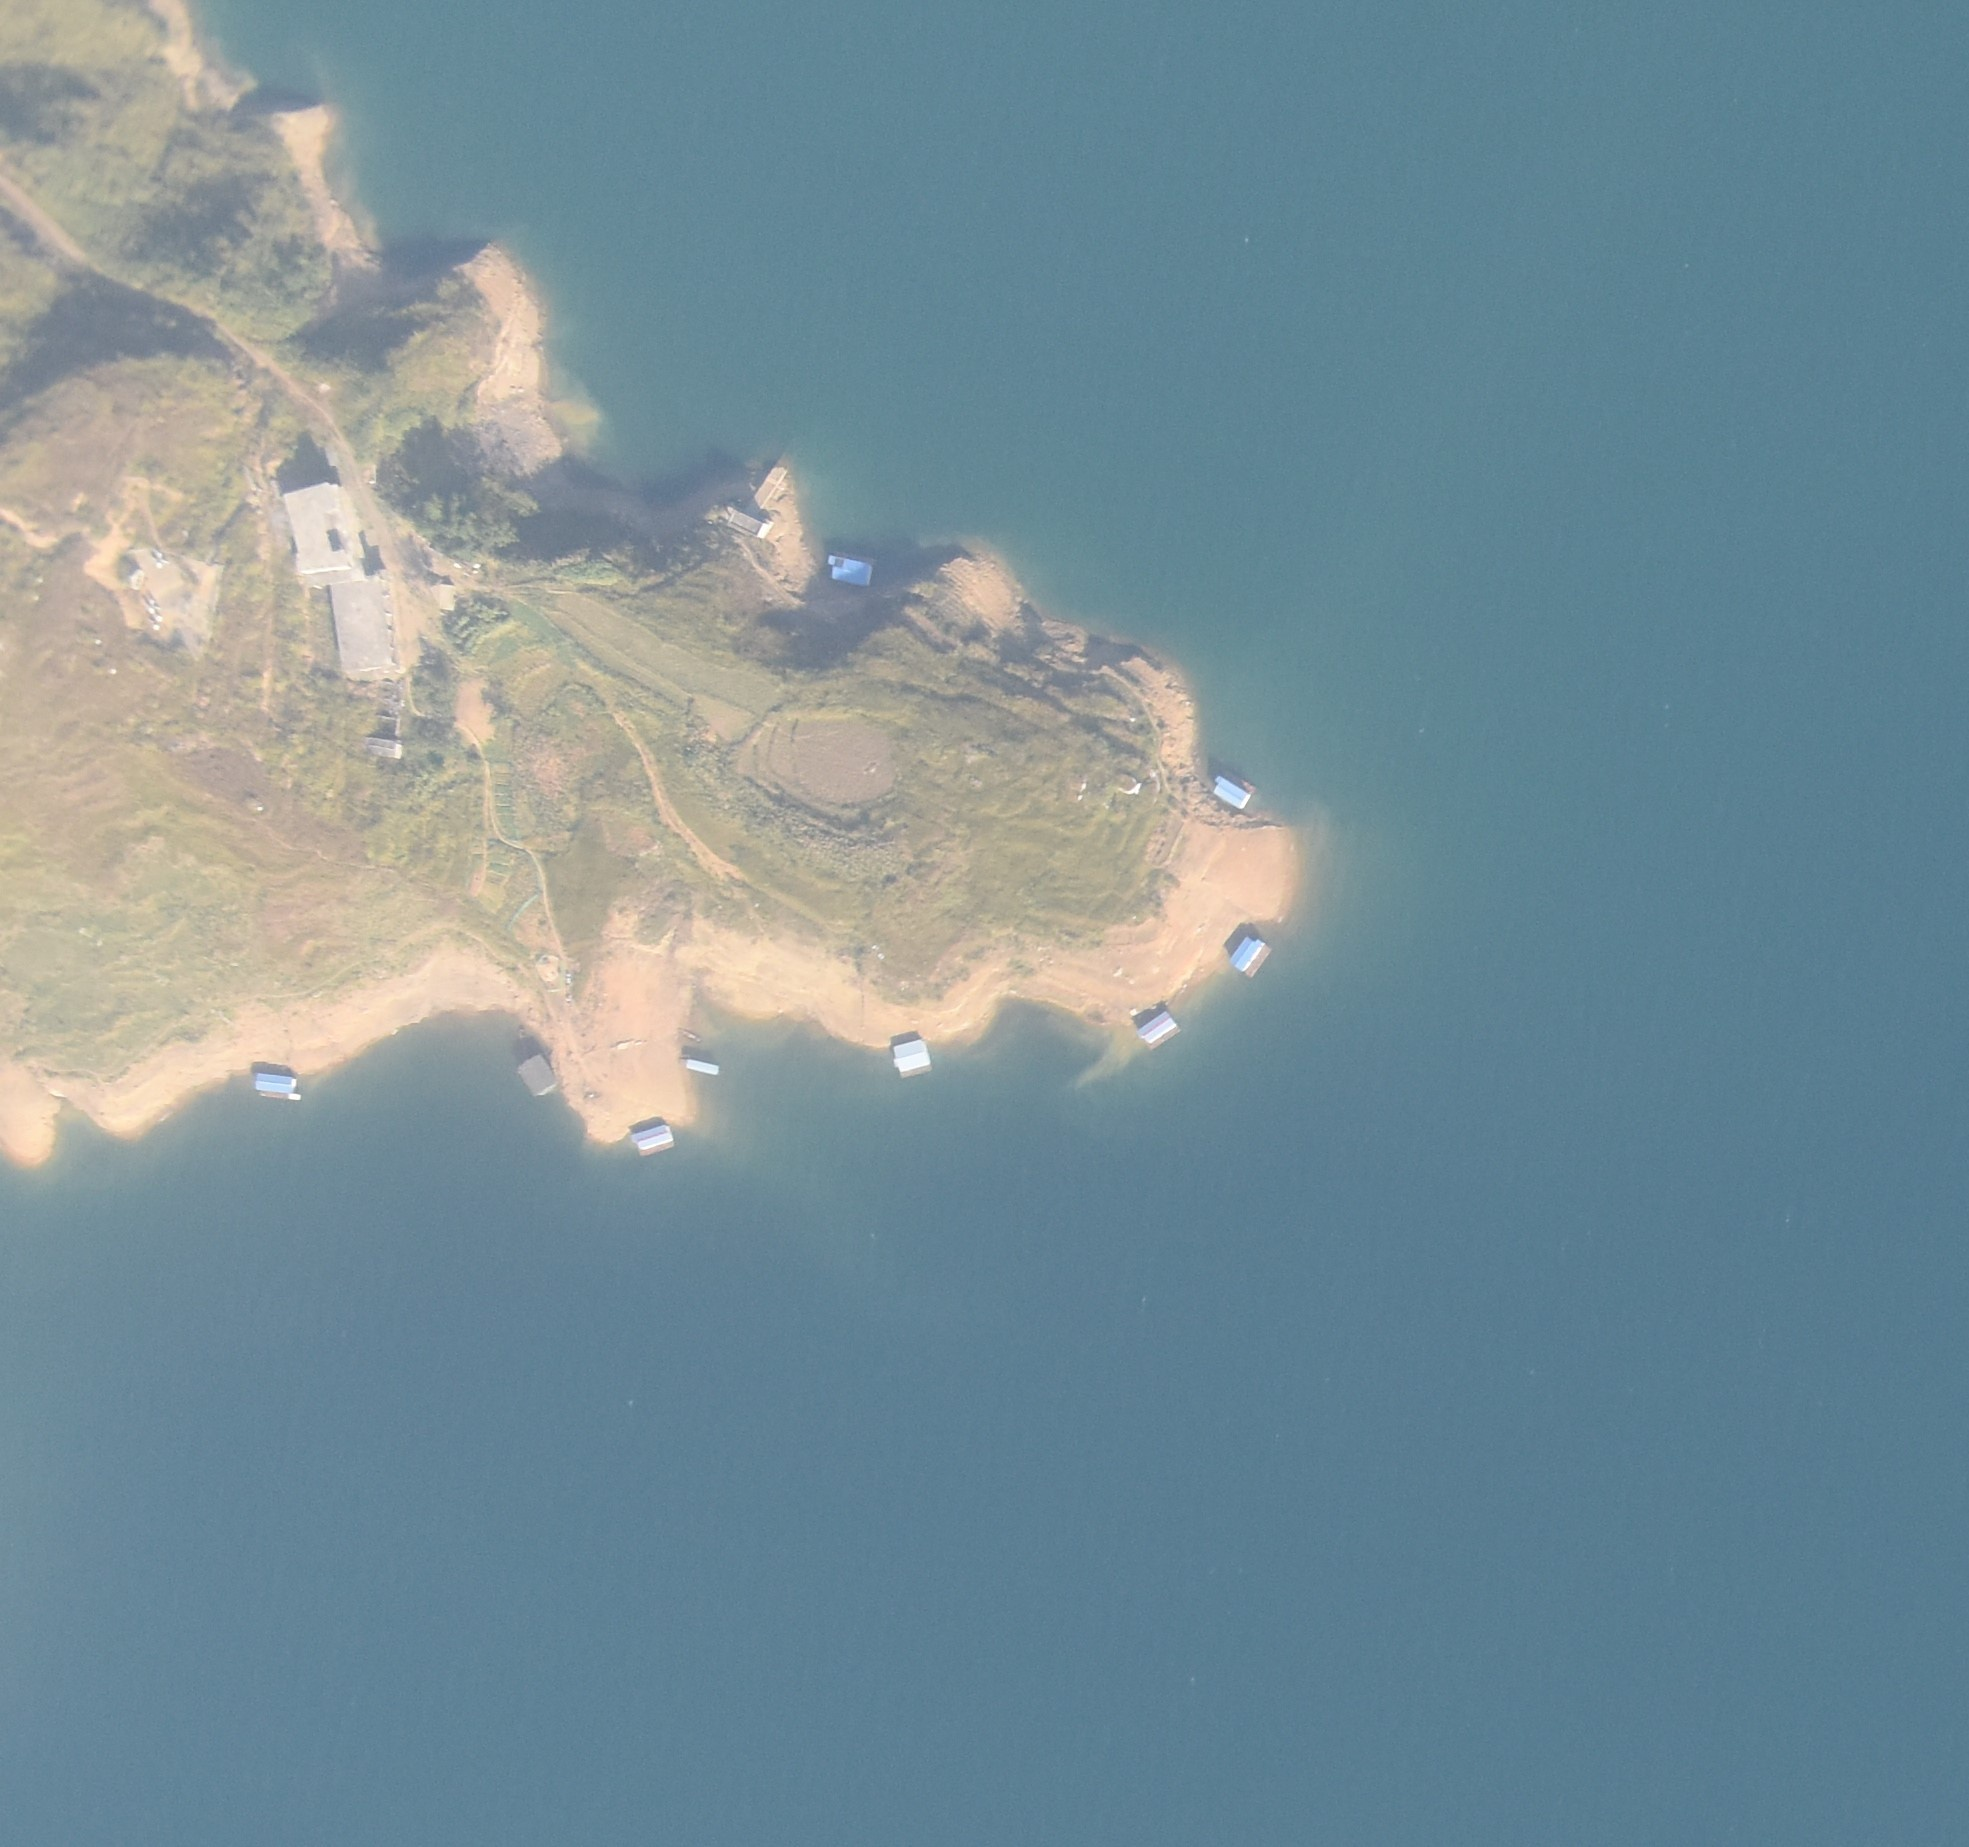building: (276, 479, 373, 581), (328, 573, 397, 674), (129, 541, 192, 625), (363, 691, 404, 759), (745, 465, 789, 513), (726, 507, 768, 540), (433, 580, 457, 611)
prefabricated-house: (515, 1051, 556, 1097), (1231, 933, 1270, 977), (892, 1037, 932, 1073), (828, 556, 874, 587), (1213, 774, 1252, 810), (632, 1123, 674, 1156), (1139, 1010, 1177, 1043), (255, 1073, 302, 1098)
ship: (678, 1056, 723, 1076), (677, 1025, 702, 1041)
